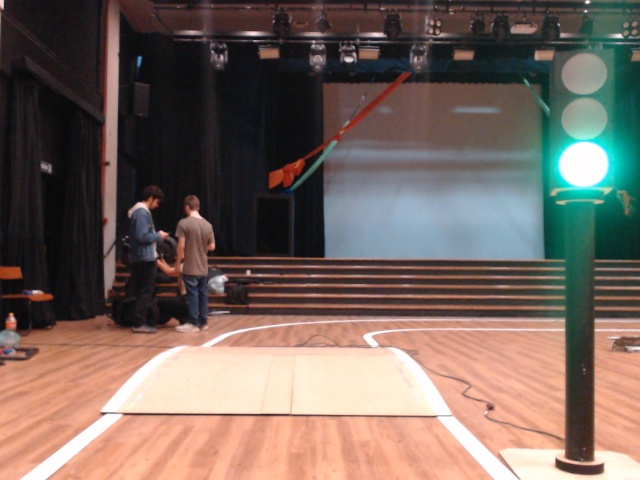SEMAFORO: (534, 31, 637, 219)
